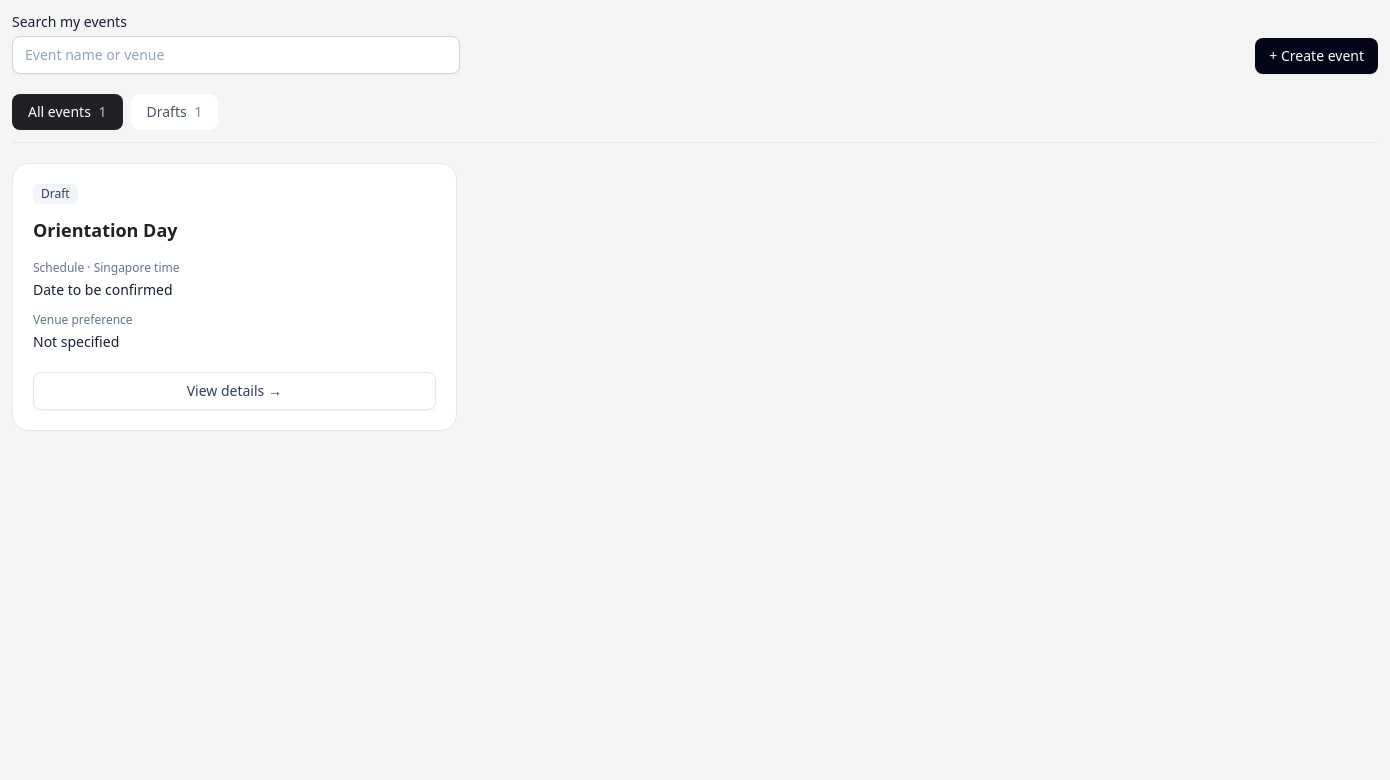
Scenario: submitting a complete draft shows confirmation and the new status
Click the button with aria-label "View details for Orientation Day": x=234, y=391 [33, 372, 436, 410]
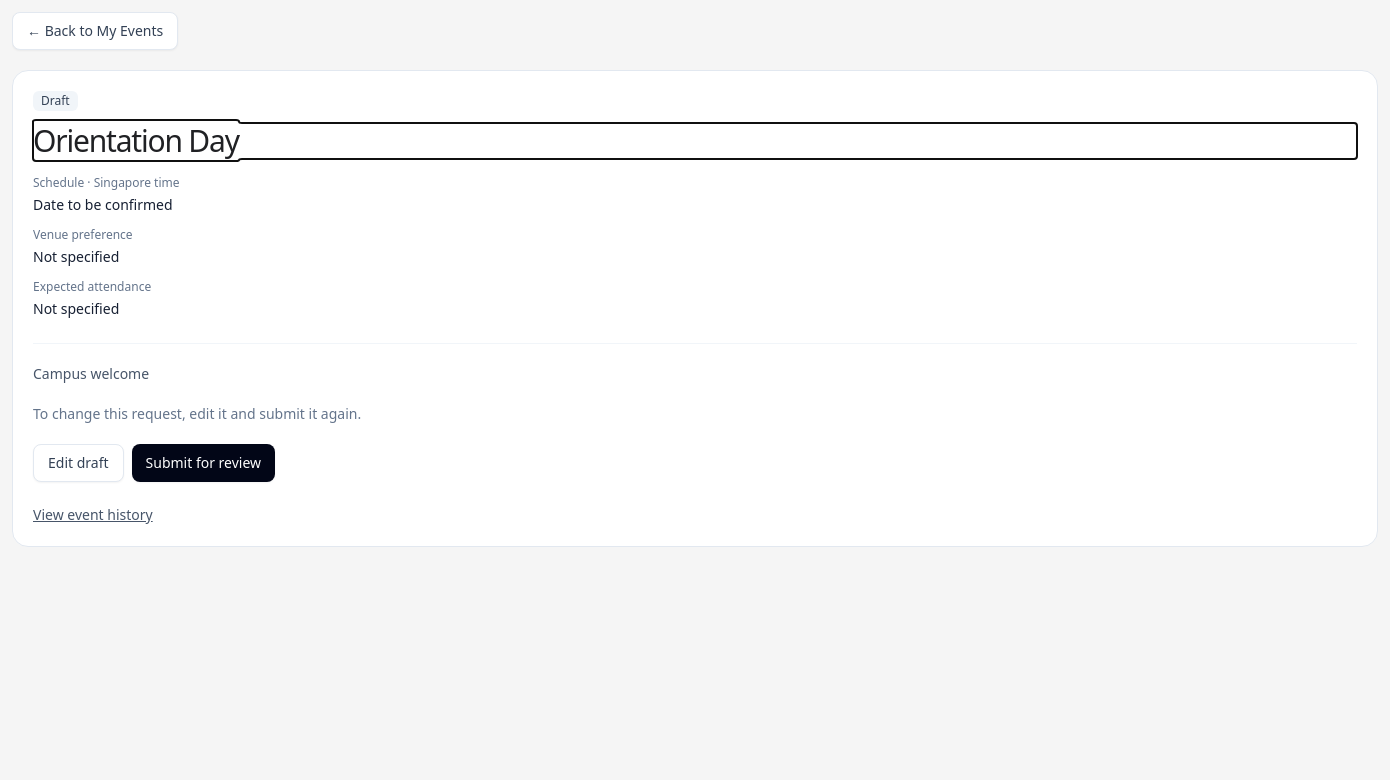
Click the button "Submit for review": x=203, y=463 [132, 444, 275, 482]
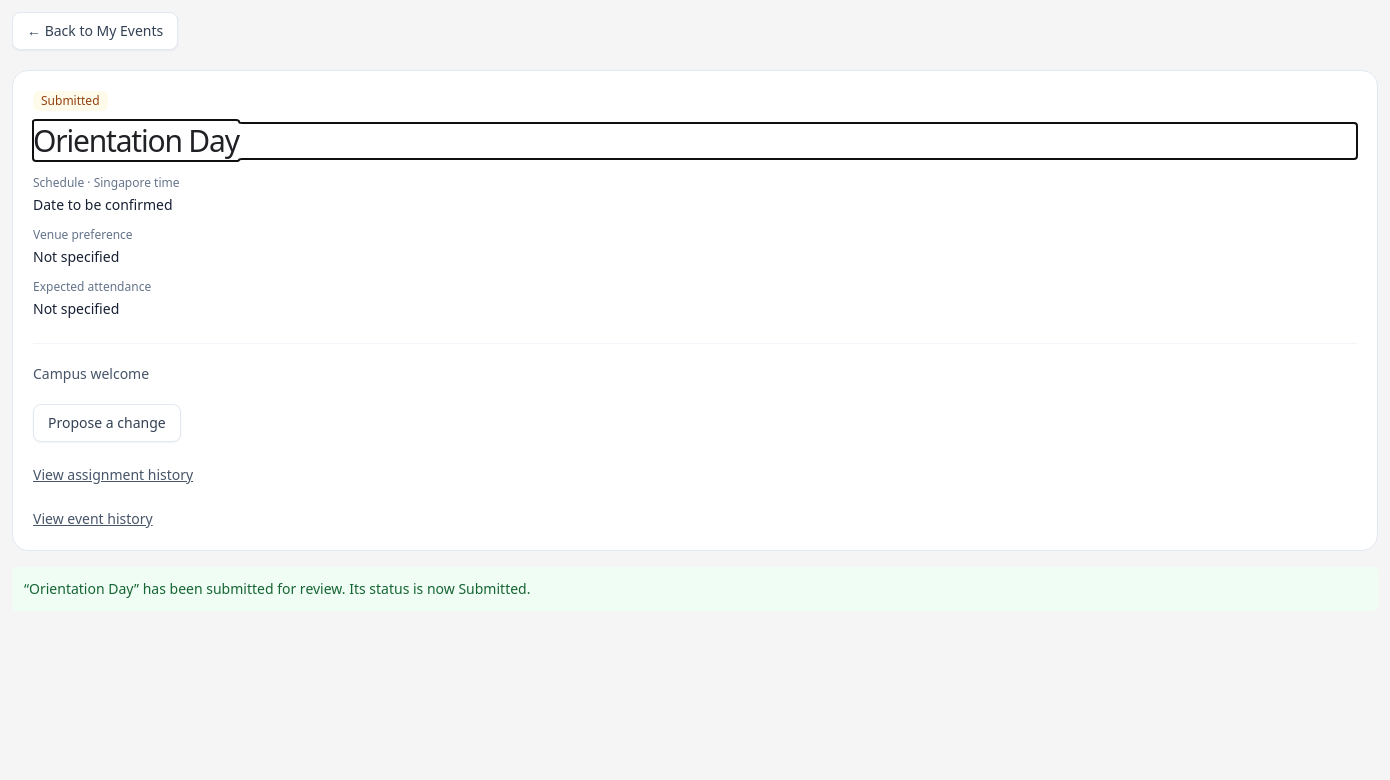
Now the message reads "“Orientation Day” has been submitted for review. Its status is now Submitted.", box [12, 567, 1378, 611]
Now the button with aria-label "Propose a change to Orientation Day" is shown, box [33, 404, 181, 442]
